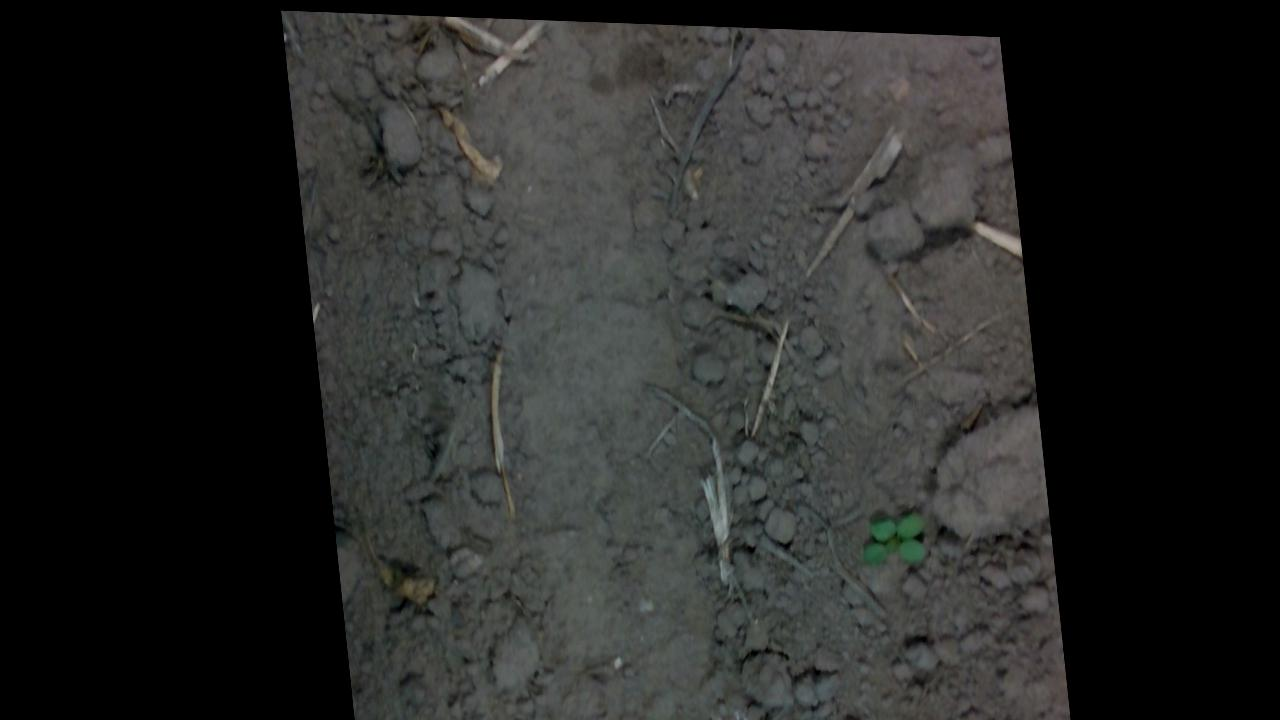weed: (847, 502, 920, 561)
